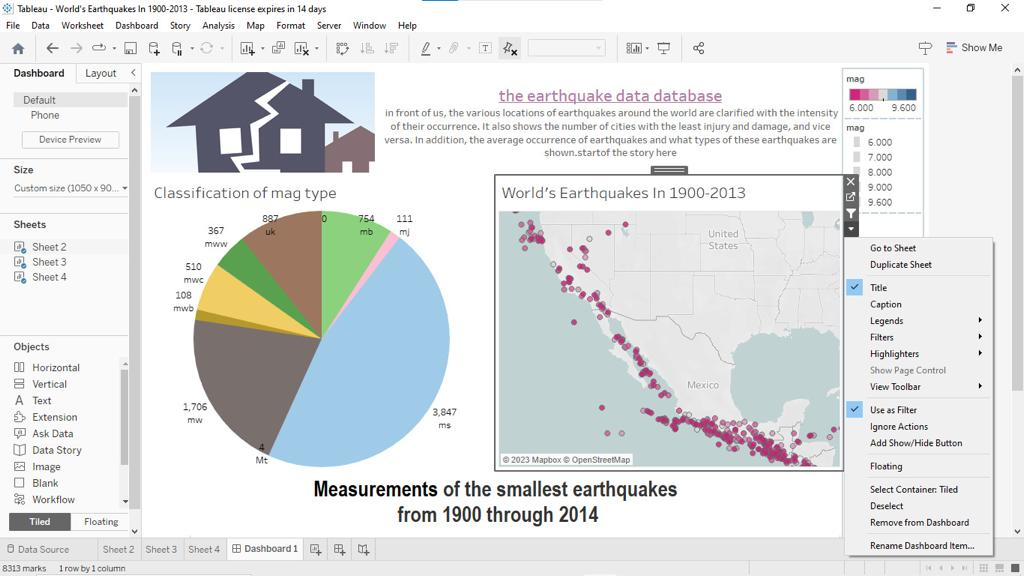

The dashboard page shown, as its layout file describes it:
{"tool":"tableau","page":{"name":"Dashboard 1","canvas":[1050,900],"ordinal":0},"visuals":[{"type":"image","param":"Image/logo.png","box":[8,8,307.1,142.1]},{"type":"text","box":[315.1,8,620.9,142.1]},{"type":"legend","title":"Sheet 2","param":"[federated.0n5mjor0i3ch0s1apfvci19rzugx].[none:mag:qk]","box":[936,8,106,81]},{"type":"legend","title":"Sheet 2","param":"[federated.0n5mjor0i3ch0s1apfvci19rzugx].[none:mag:qk]","box":[936,89,106,159]},{"type":"worksheet","title":"Sheet 3","mark":"Pie","box":[8,150.1,464,392.9]},{"type":"worksheet","title":"Sheet 2","mark":"Multipolygon","rows":["latitude"],"cols":["longitude"],"box":[472,150.1,464,392.9]},{"type":"worksheet","title":"Sheet 4","mark":"Bar","rows":["mag"],"cols":["Date","place"],"box":[8,543,928,349]}]}

Visuals, with their boxes on the page's 1050x900 design canvas (x1, y1, x2, y2). These are canvas units, not pixel positions in the 1024x576 screenshot, which may show the page scaled, cropped or inside an application window:
image: rect(8, 8, 315, 150)
text: rect(315, 8, 936, 150)
"Sheet 2" legend: rect(936, 8, 1042, 89)
"Sheet 2" legend: rect(936, 89, 1042, 248)
"Sheet 3" worksheet (Pie marks): rect(8, 150, 472, 543)
"Sheet 2" worksheet (Multipolygon marks): rect(472, 150, 936, 543)
"Sheet 4" worksheet (Bar marks): rect(8, 543, 936, 892)
